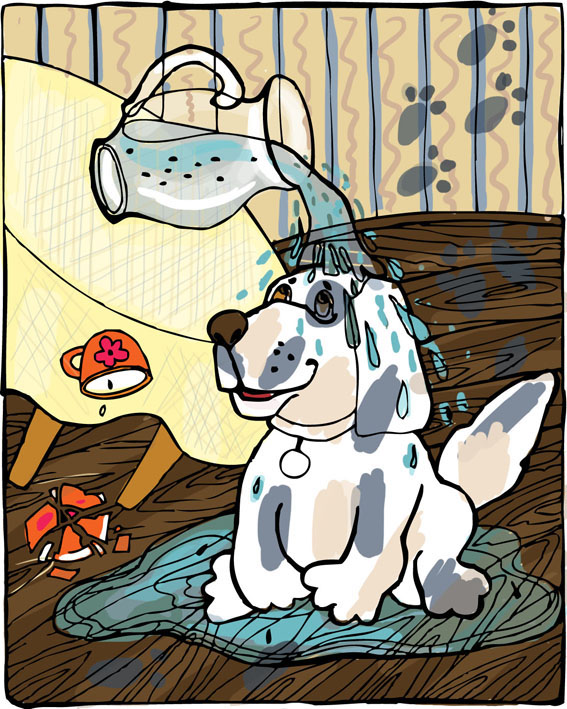dog: (204, 264, 558, 627)
